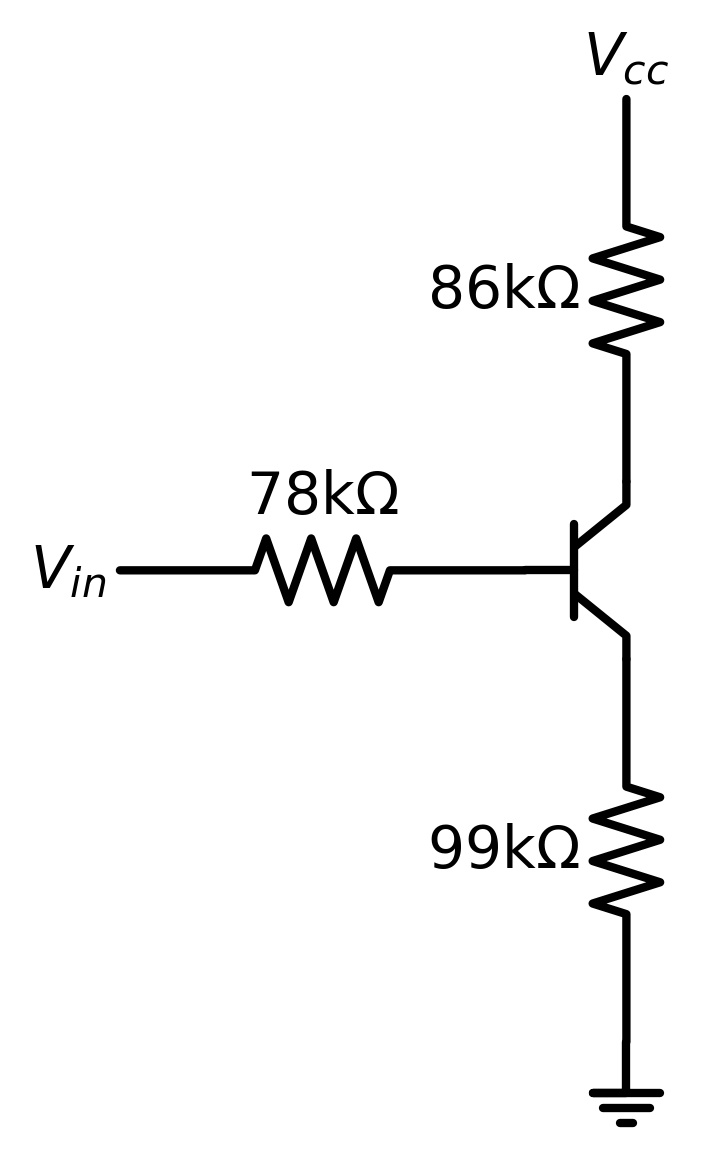bjt: (526, 459, 683, 666)
ground: (581, 1057, 668, 1145)
resistor: (233, 523, 428, 634), (578, 212, 683, 381), (586, 769, 677, 939)
